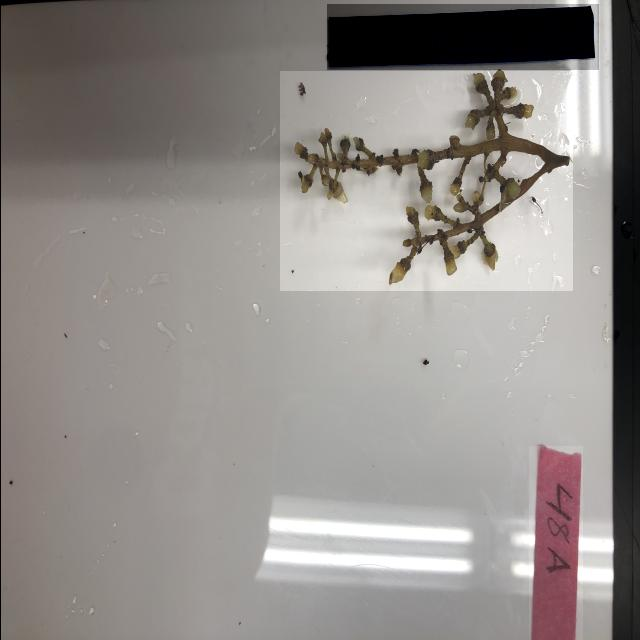index: (528, 446, 582, 640)
measure_label: (326, 5, 598, 70)
rachis_cluster: (279, 71, 572, 292)
